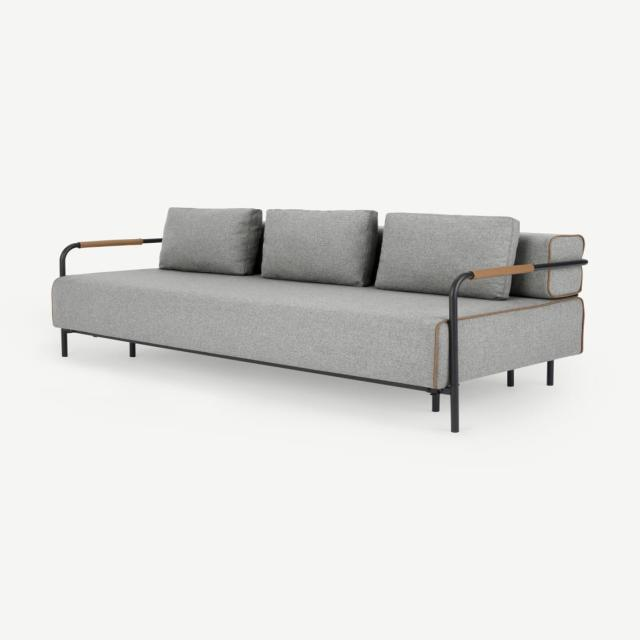back_cushion: (159, 208, 583, 294), (461, 267, 581, 299)
left_arm: (448, 261, 585, 433)
legs: (61, 330, 73, 356), (430, 391, 440, 411), (547, 361, 553, 385), (507, 370, 514, 386), (129, 342, 135, 357)
right_arm: (61, 238, 161, 275)
seat_cushion: (52, 269, 448, 389), (459, 297, 583, 380)
stallion-sofa: (0, 0, 639, 639)
